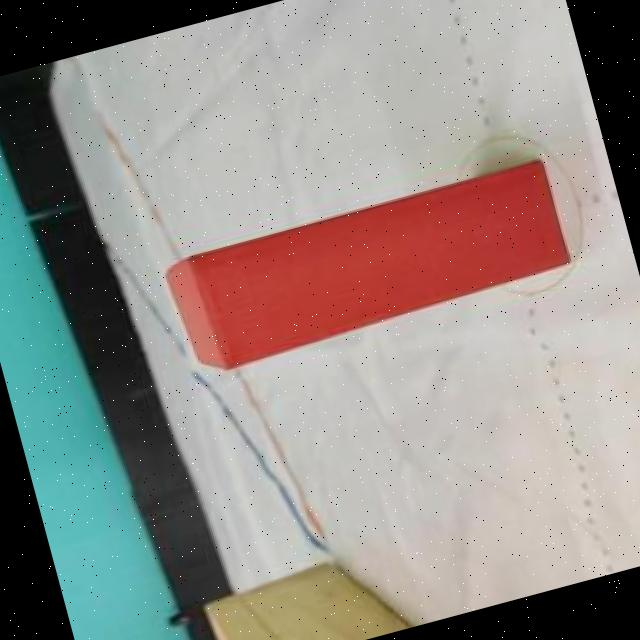redbox: (157, 158, 573, 379)
